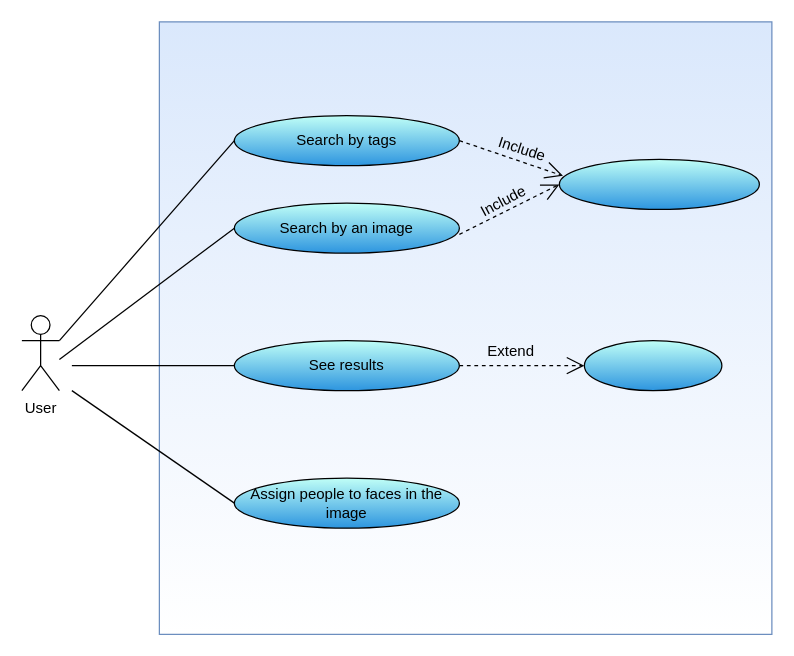
The diagram is 794 pixels wide and 656 high, and some of its shapes have lost their labels. The shapes that lost their labels are listed below. From the top down, each one's centre as x and y in pixels, then its label:
(x=658, y=183): Select source folder
(x=652, y=365): Add tags
